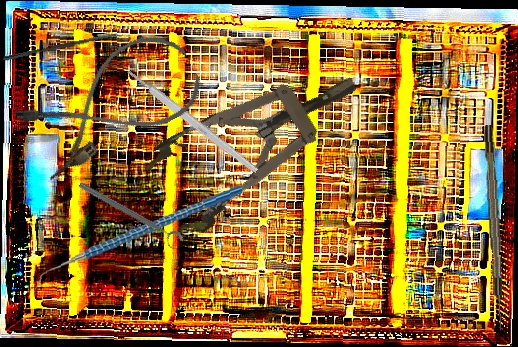Cannula: (10, 21, 211, 184)
Chopper: (29, 185, 248, 292)
Fixation Ring: (73, 178, 186, 253)
Hook Surgical: (483, 124, 506, 332)
Scalpel Handle: (125, 66, 260, 176)
Speculum: (135, 42, 380, 243)
Surgical Spoon: (2, 31, 124, 62)
